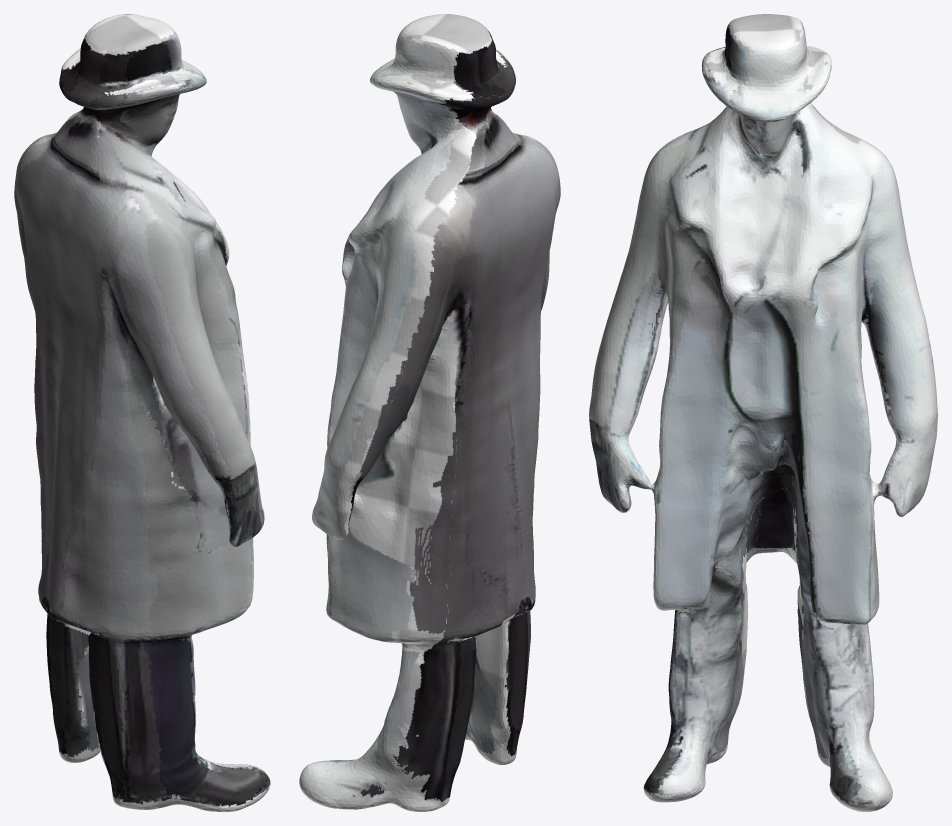
File: textured_text2tex.glb
3 renders of one model, left to right at view 1: azimuth 30°, elevation 25°; view 2: azimuth 150°, elevation 25°; view 3: azimuth 270°, elevation 25°, orthographic.
Visible parts, largest first — view 1: Node; view 2: Node; view 3: Node.
Boxes of the visible parts, bbox=[...] form: Node: bbox=[14, 14, 270, 811]; Node: bbox=[299, 14, 560, 811]; Node: bbox=[589, 14, 937, 811].
Bounding box in the file's own units: 0.2451 × 1 × 0.4223.
Materials: 1 (1 with a texture image).
